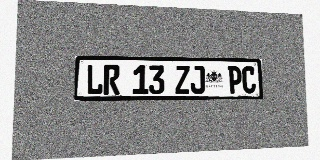1: (133, 65, 148, 94)
3: (149, 65, 164, 94)
C: (242, 66, 256, 93)
J: (190, 65, 205, 94)
L: (86, 64, 103, 95)
P: (228, 66, 242, 93)
R: (103, 64, 120, 95)
Z: (175, 65, 190, 94)
